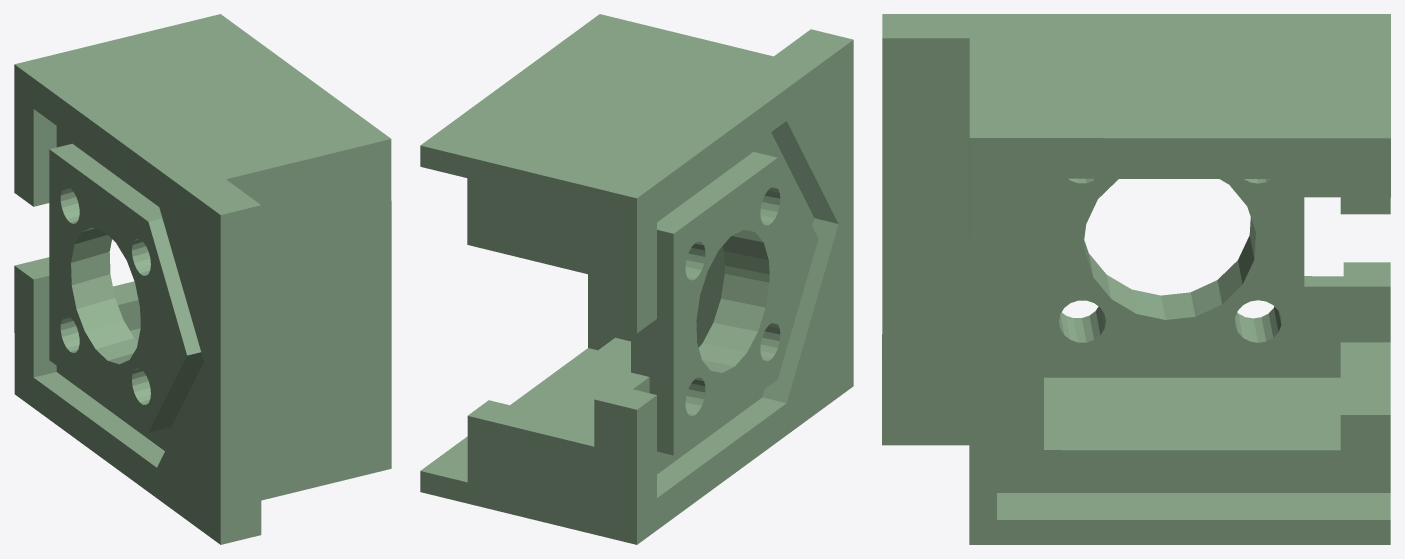
File: middleCase_obj.obj
3 renders of one model, left to right at view 1: azimuth 30°, elevation 25°; view 2: azimuth 150°, elevation 25°; view 3: azimuth 270°, elevation 25°, orthographic. The views are drawn at different scales.
Visible parts, largest first — view 1: middleCase\Solid; view 2: middleCase\Solid; view 3: middleCase\Solid.
Part boxes in pixels (x1,y1,x2,y2): middleCase\Solid: (14, 14, 391, 544); middleCase\Solid: (420, 14, 853, 544); middleCase\Solid: (882, 14, 1390, 544).
Bounding box in the file's own units: 18.71 × 28.61 × 32.42.
